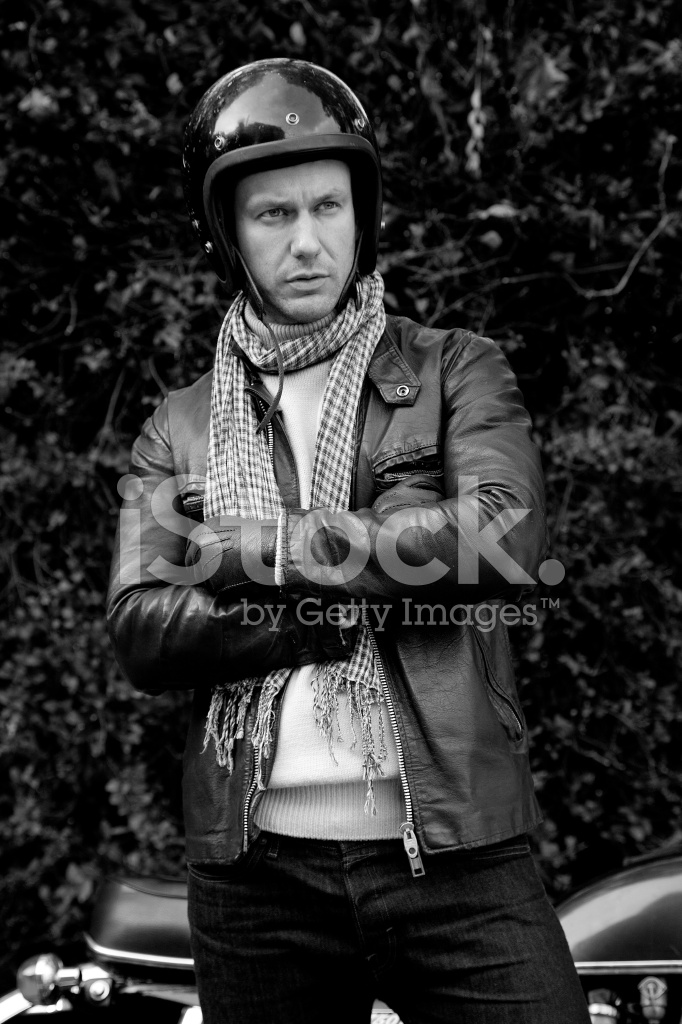with_helmet: (173, 57, 387, 280)
